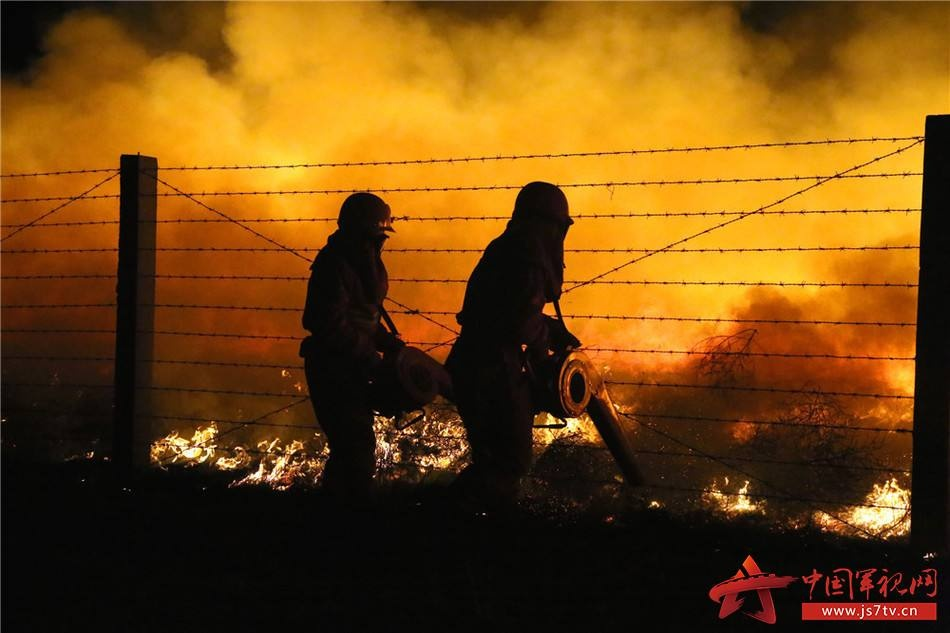fire: (150, 399, 328, 500), (365, 408, 474, 483), (815, 472, 913, 545), (532, 403, 608, 448), (702, 471, 770, 515)
